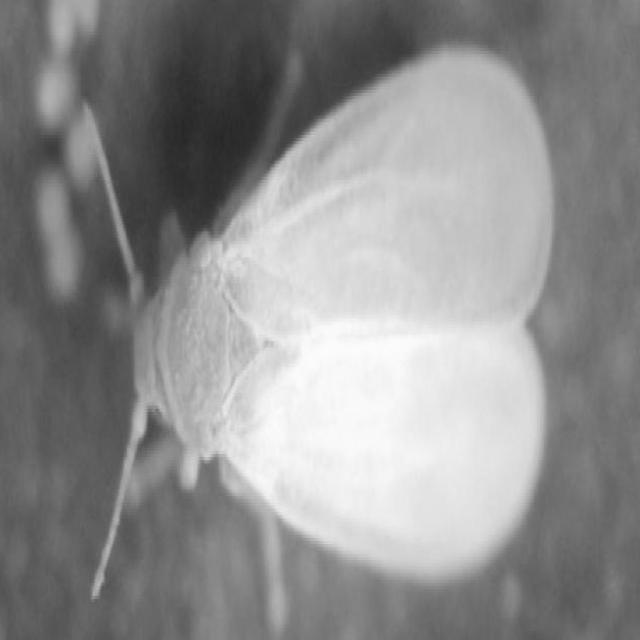Whitefly: (77, 19, 562, 628)
